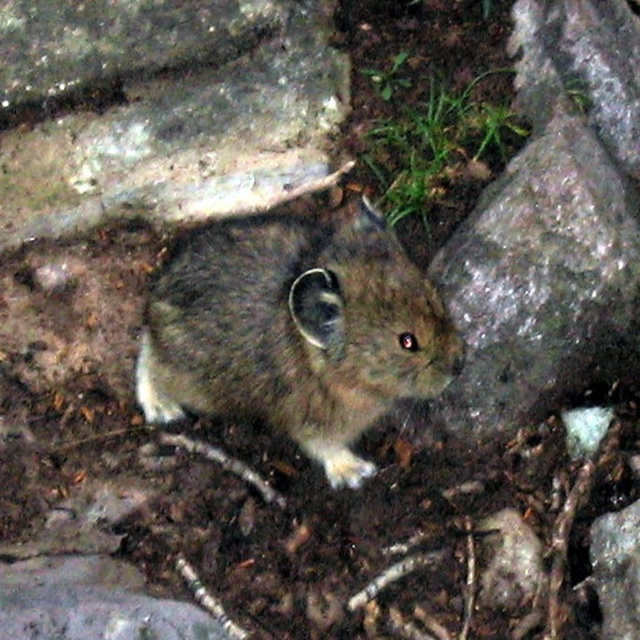Mouse: (136, 210, 469, 494)
